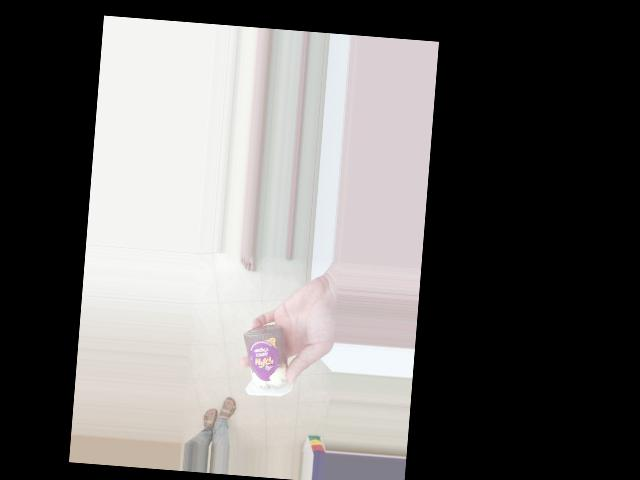milky: (244, 312, 294, 398)
